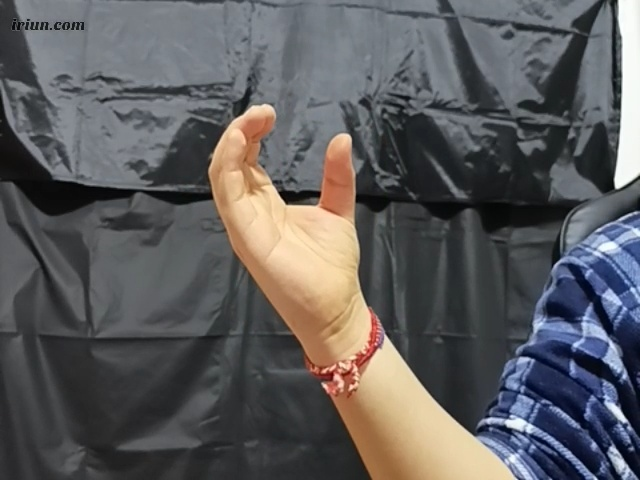C: (201, 98, 386, 303)
